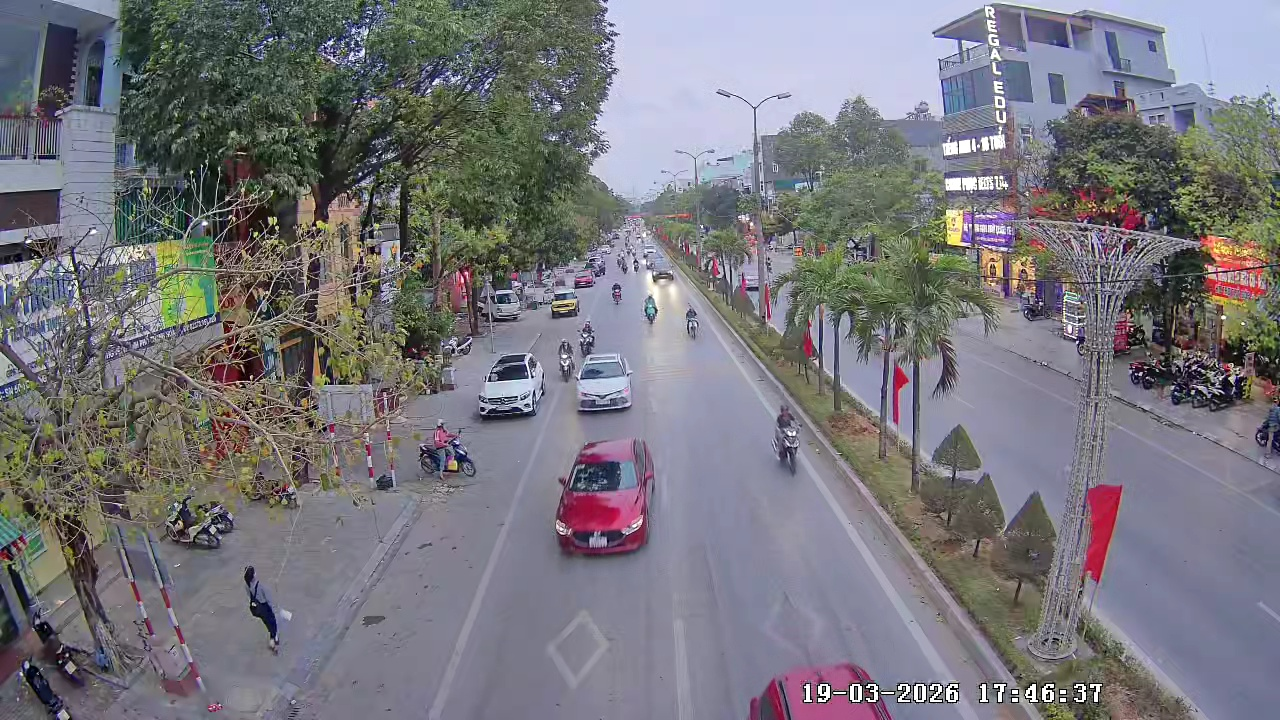car: (553, 435, 659, 556), (475, 351, 546, 418), (574, 351, 635, 414), (549, 287, 579, 318)
motorbike: (416, 418, 479, 479), (769, 404, 803, 475), (557, 337, 576, 382), (578, 318, 597, 354), (642, 291, 659, 324), (683, 305, 699, 338), (610, 280, 624, 306)
pedestrian: (241, 564, 293, 657)
